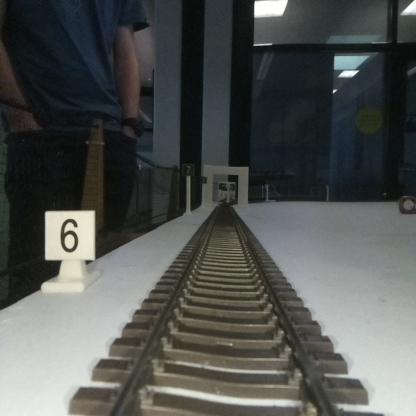black-info-7: (182, 163, 193, 216)
white-stop-6: (44, 210, 94, 290)
